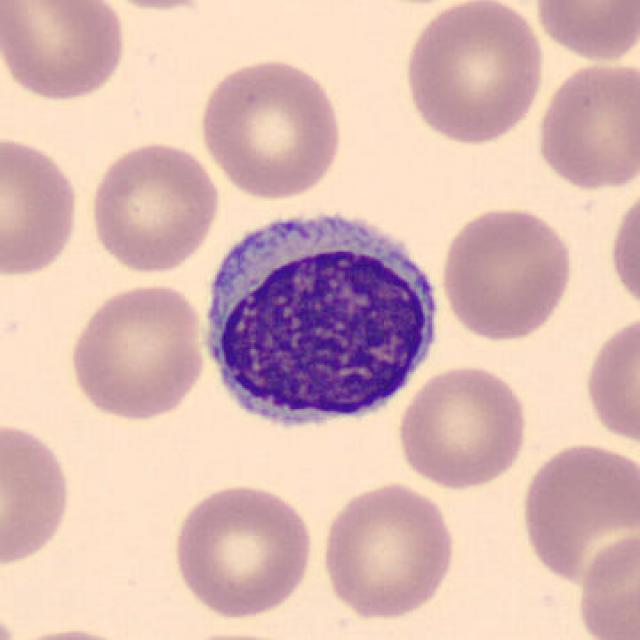Lymphocyte: (190, 194, 450, 442)
RBC: (196, 55, 346, 201), (400, 0, 547, 146), (64, 279, 210, 423), (316, 480, 461, 622), (169, 480, 316, 620), (437, 203, 578, 344), (86, 138, 222, 275), (516, 437, 636, 589), (394, 361, 532, 492), (532, 56, 638, 194), (0, 0, 130, 104), (0, 130, 84, 278), (0, 416, 76, 571), (580, 308, 638, 449), (572, 529, 640, 640), (529, 0, 638, 63), (606, 182, 640, 319), (5, 622, 151, 640), (167, 626, 315, 640), (87, 0, 229, 14)
